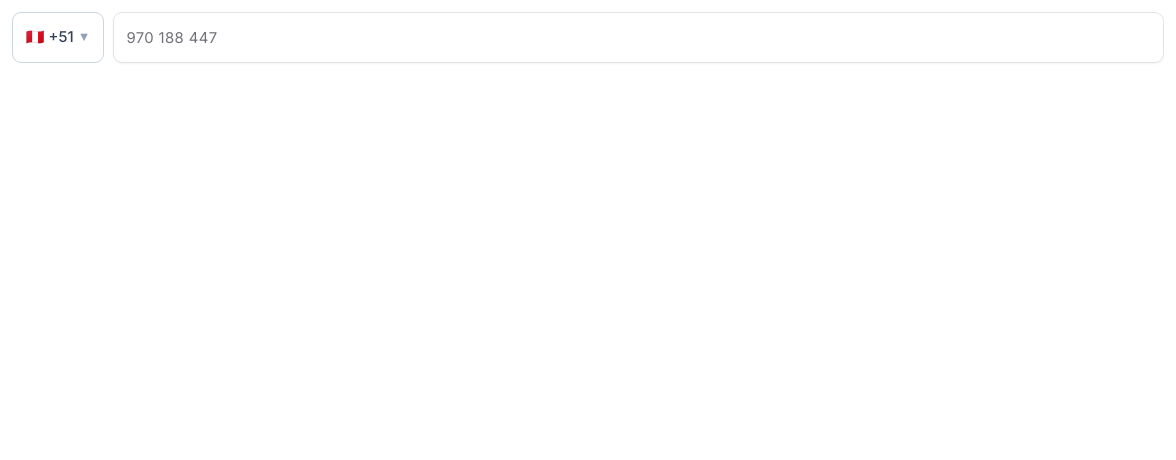
it: PhoneInput › rejects a Peru-length number when Italy is selected and accepts the required Italian length
Click the button named "Seleccionar país" at (58, 38), box [12,12,104,63]
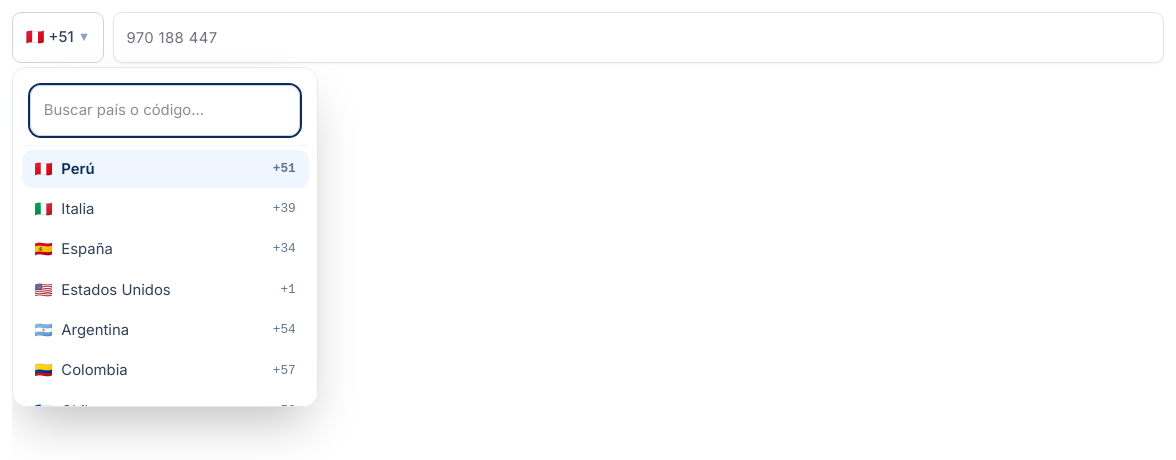
Click the button "🇮🇹 Italia +39" at (78, 209), box [22,190,308,229]
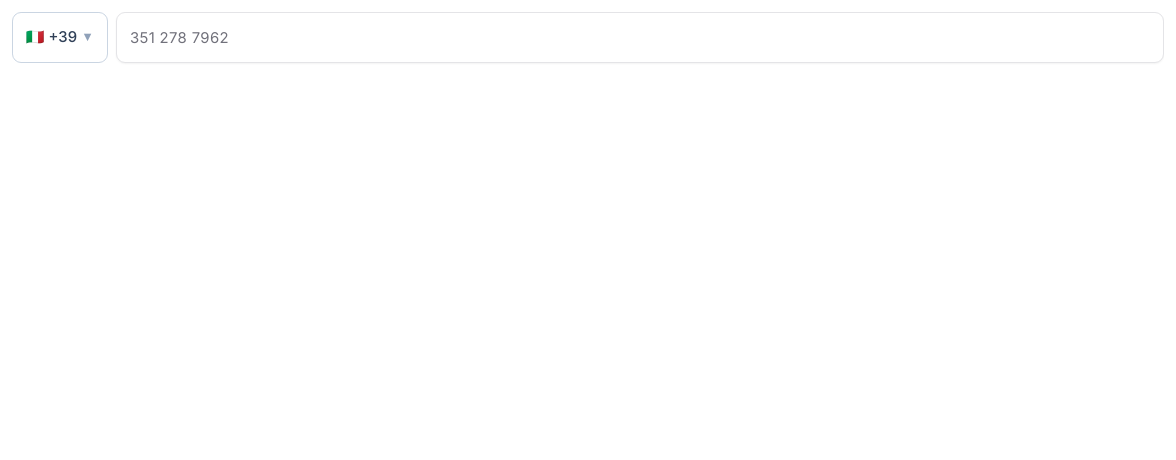
Expected: the field named "Número de teléfono" has attribute placeholder="351 278 7962"
Type "389766372" into the field named "Número de teléfono" at (640, 38), box [116,12,1164,63]
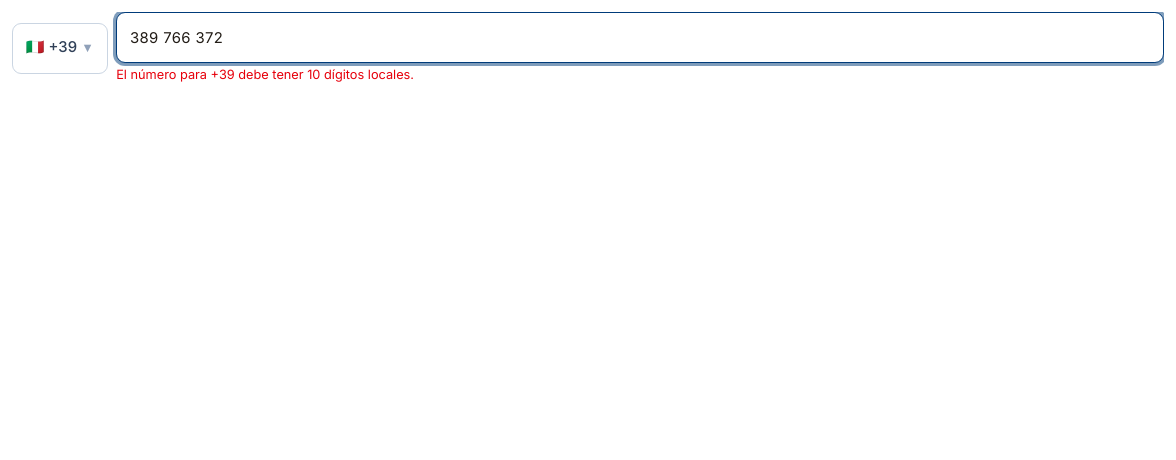
Expected: the message shows "+39 debe tener 10 dígitos locales", [116,67,414,82]
Type "3" into the field named "Número de teléfono" at (640, 38), box [116,12,1164,63]
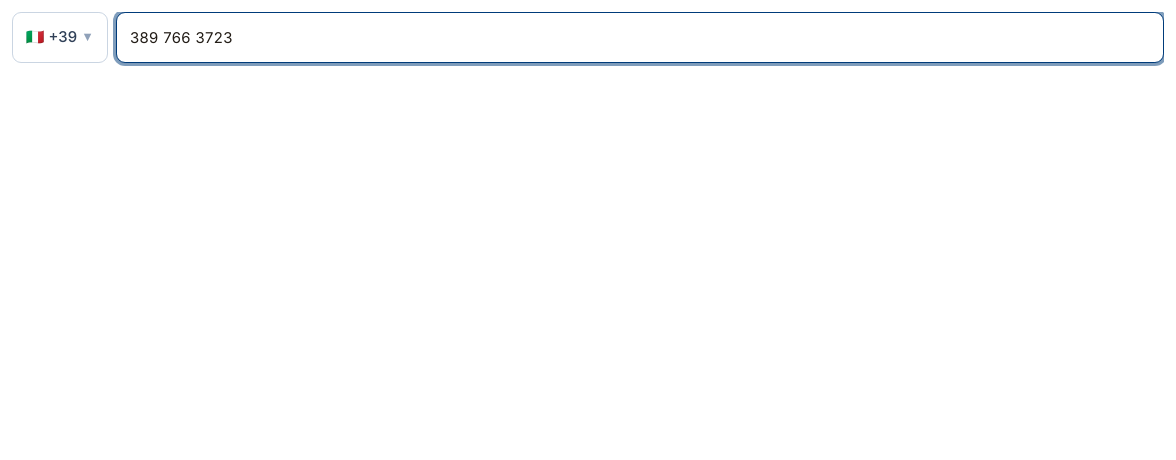
Expected: the message "El número para +39 debe tener 10 dígitos locales." is gone
